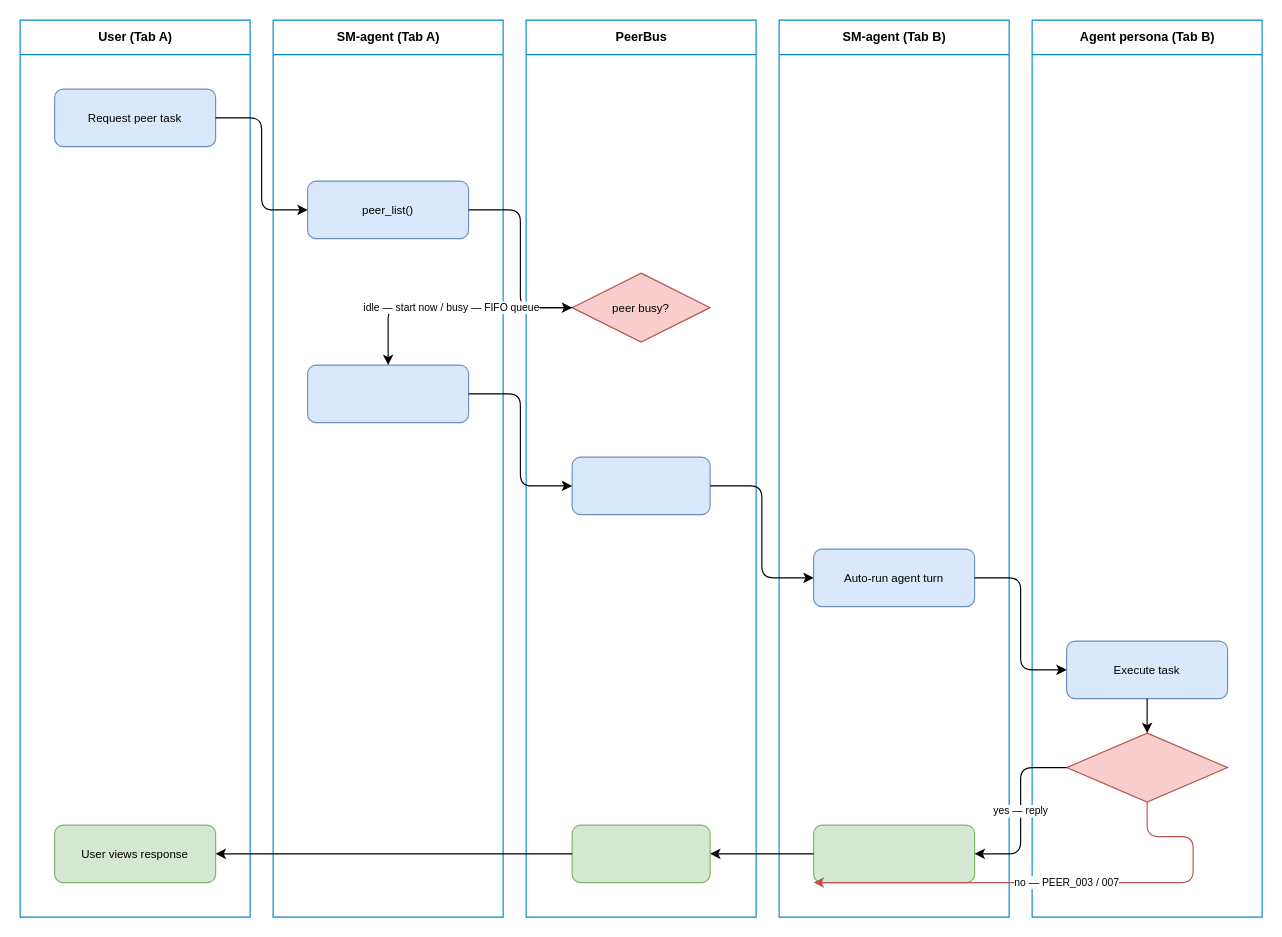
This 1282x937 diagram has some shape labels left out. The centre of each missing label's shape, as x and y in pixels:
"peer_reply" goes at point (893, 853).
"peer_send(tabId, msg)" goes at point (387, 393).
"Return via PeerBus" goes at point (640, 853).
"Route to target tab" goes at point (640, 485).
"success?" goes at point (1146, 767).
